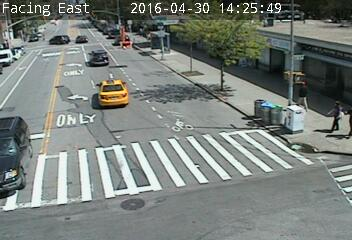neg: (244, 92, 266, 121), (159, 117, 180, 145), (181, 49, 201, 76), (101, 71, 115, 90)
pos: (325, 98, 348, 129), (291, 80, 314, 111)
